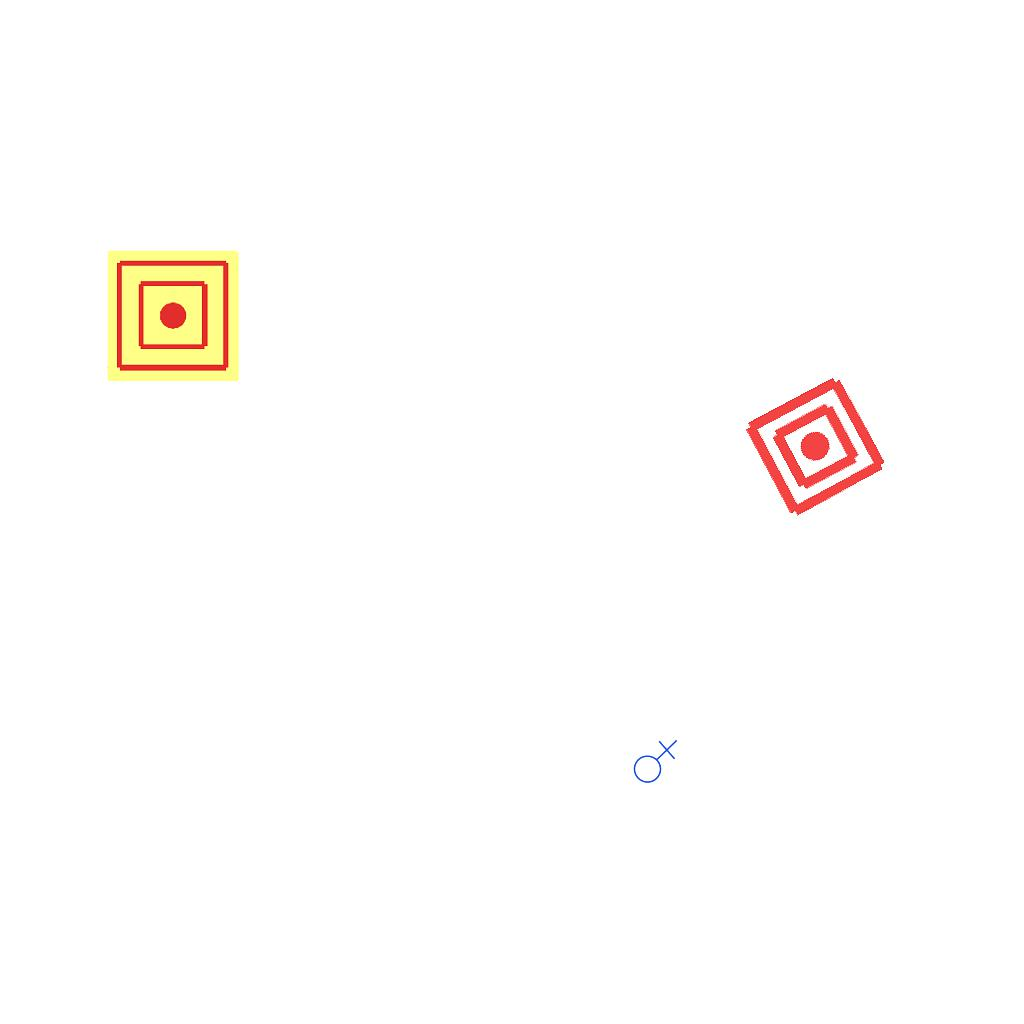Elektroanschluss_allgemein_230V_Geraeteanschlussdose_230V: (629, 737, 678, 784)
NAM-Nichtautomatischer_Melder: (739, 370, 892, 523), (107, 250, 239, 382)
